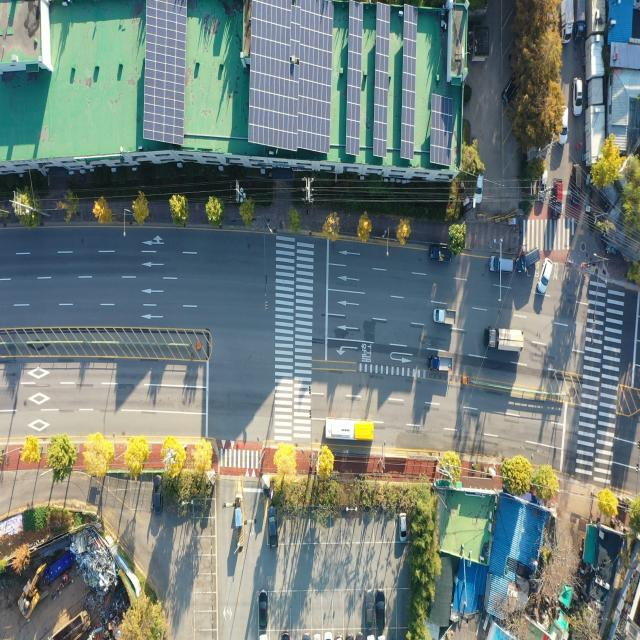car: (515, 247, 541, 274), (537, 259, 555, 295), (502, 73, 521, 105), (570, 162, 582, 204), (488, 257, 515, 275), (268, 504, 278, 548), (557, 106, 568, 146), (364, 589, 374, 631), (376, 587, 385, 632), (474, 168, 485, 204), (259, 590, 268, 628), (539, 167, 549, 198), (574, 79, 582, 117), (398, 513, 407, 542)
large_bus: (324, 419, 375, 442)
medium_truck: (484, 326, 524, 348)
small_truck: (560, 0, 574, 45), (574, 0, 586, 42), (552, 177, 563, 220), (435, 308, 458, 327), (428, 356, 453, 372), (429, 244, 452, 261)
